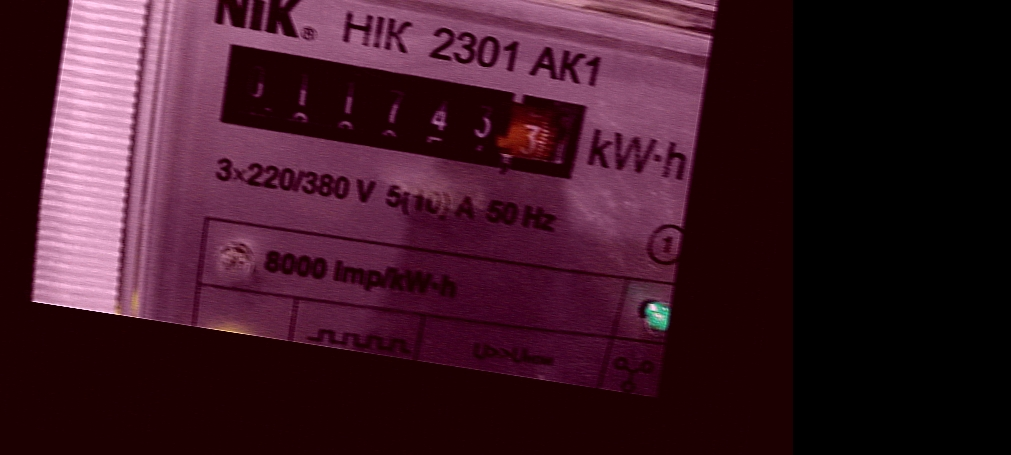0: (241, 57, 269, 99), (290, 63, 314, 107)
1: (337, 71, 359, 114)
3: (469, 95, 496, 140), (516, 115, 541, 156)
4: (425, 88, 451, 131)
7: (379, 78, 408, 125)
screen: (196, 24, 596, 189)
